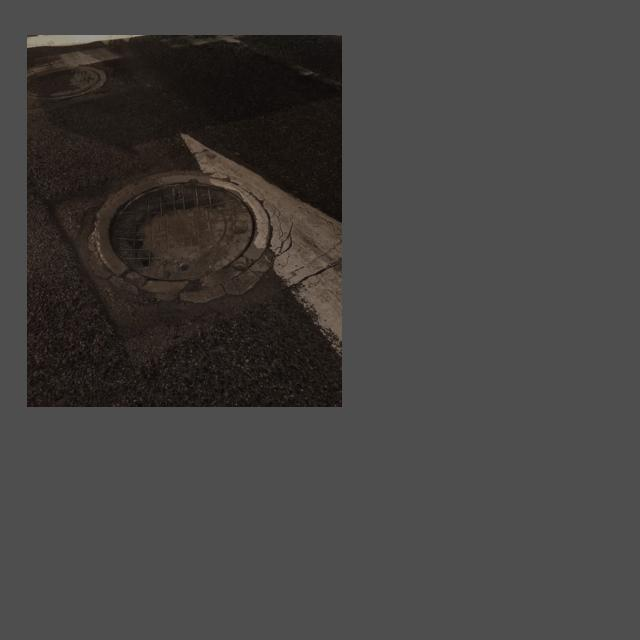circle: (56, 157, 319, 337)
